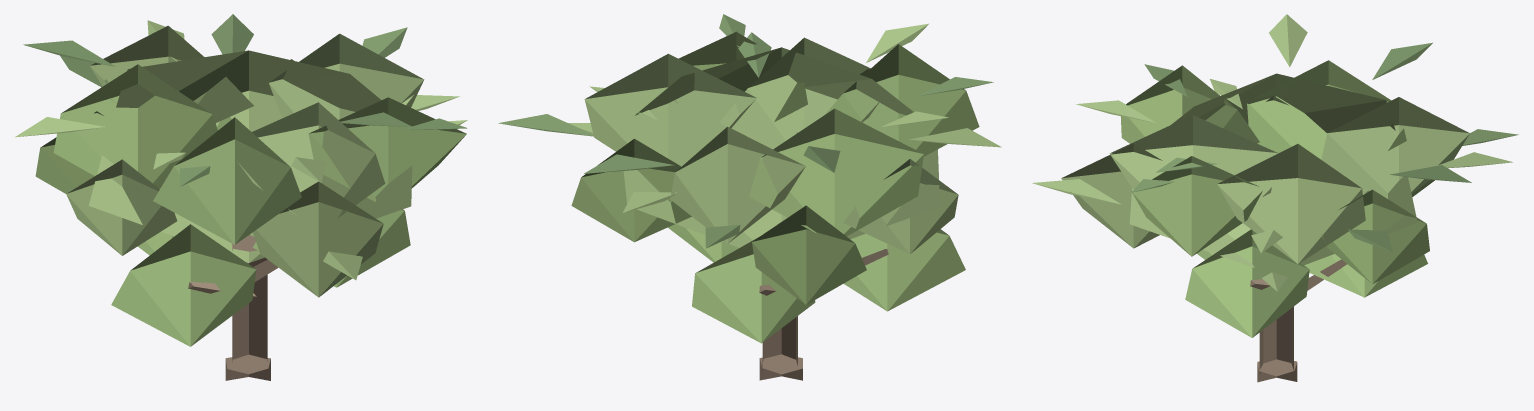
The model's file is shu.chuilui__spring.glb.
3 views of the same model, side by side, from view 1: azimuth 30°, elevation 25°; view 2: azimuth 150°, elevation 25°; view 3: azimuth 270°, elevation 25° (orthographic). The views are drawn at different scales.
Parts seen in each view (by area): view 1: shu.chuilui__spring; view 2: shu.chuilui__spring; view 3: shu.chuilui__spring.
Part boxes in pixels (x1,y1,x2,y2): shu.chuilui__spring: (15, 14, 467, 380); shu.chuilui__spring: (498, 14, 1001, 380); shu.chuilui__spring: (1032, 14, 1518, 382).
Bounding box in the file's own units: 15.32 × 10.49 × 15.84.
